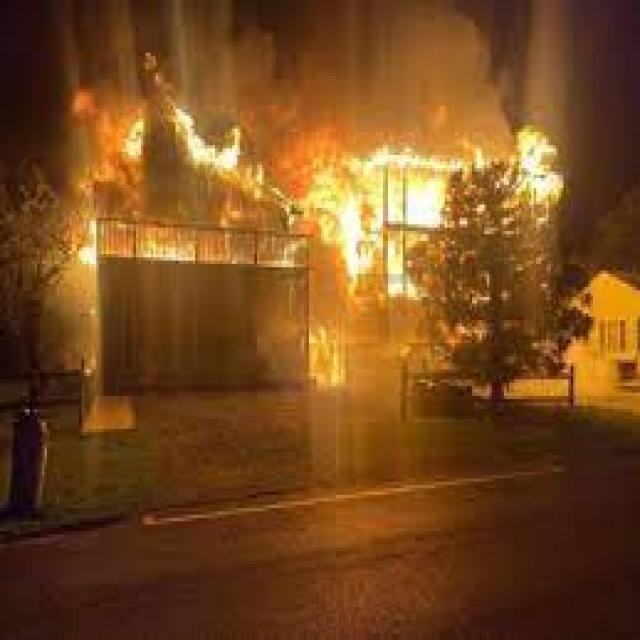Fire: (335, 156, 571, 288)
Smoke: (189, 0, 640, 175)
